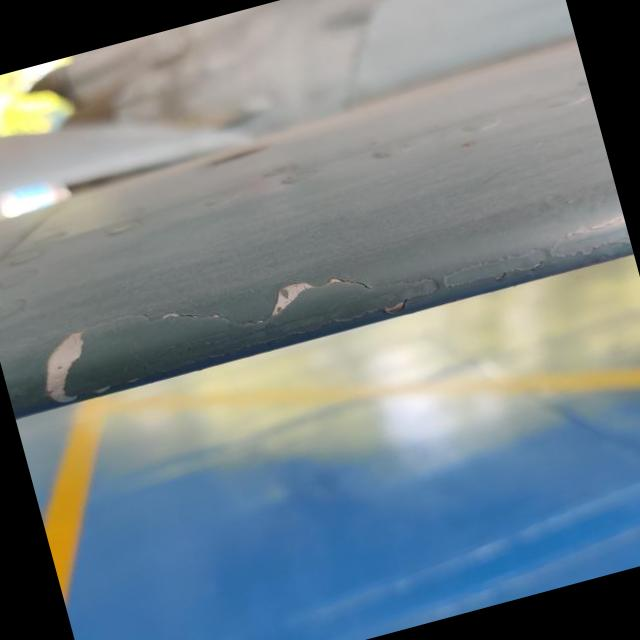Paint-off: (252, 269, 371, 327), (41, 331, 84, 408)
